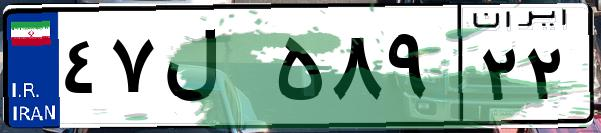2: (475, 38, 525, 113), (525, 38, 570, 115)
4: (57, 26, 110, 100)
5: (270, 28, 330, 110)
7: (110, 28, 158, 98)
8: (330, 28, 385, 110)
9: (385, 28, 445, 110)
ل: (158, 20, 270, 120)
